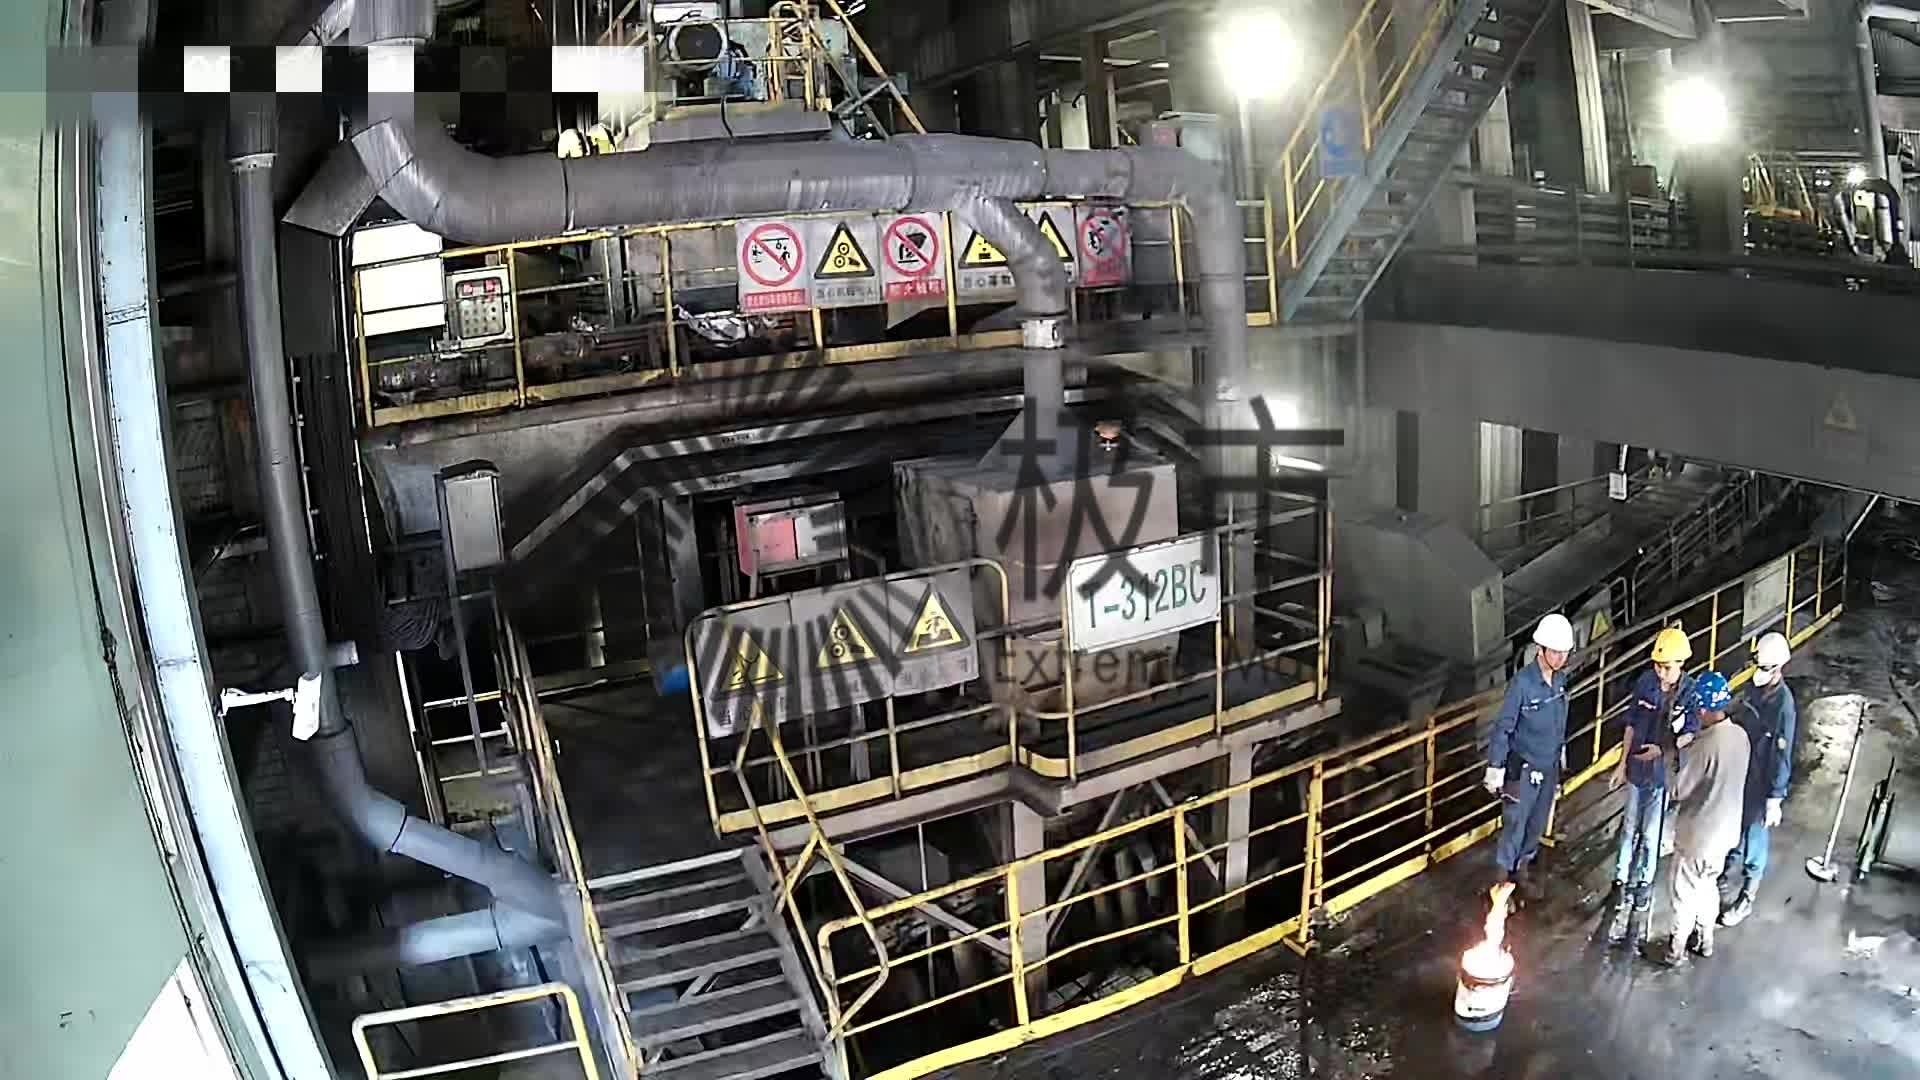fire: (1460, 878, 1522, 994)
